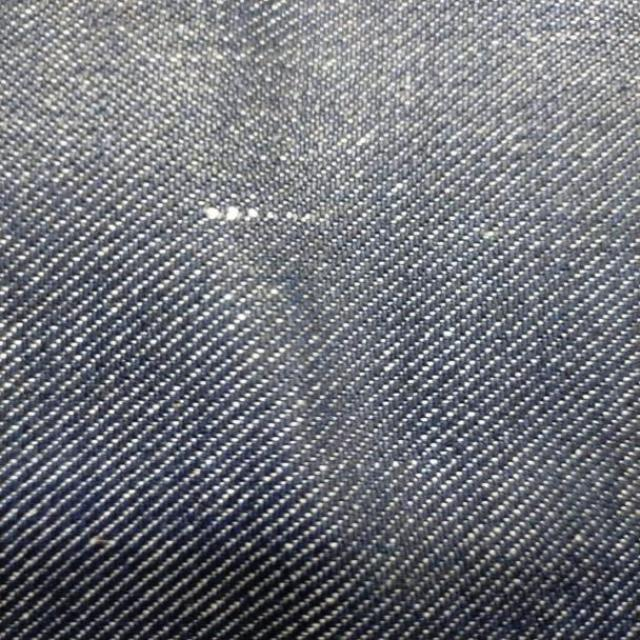Knot: (203, 205, 280, 222), (285, 211, 315, 222)
